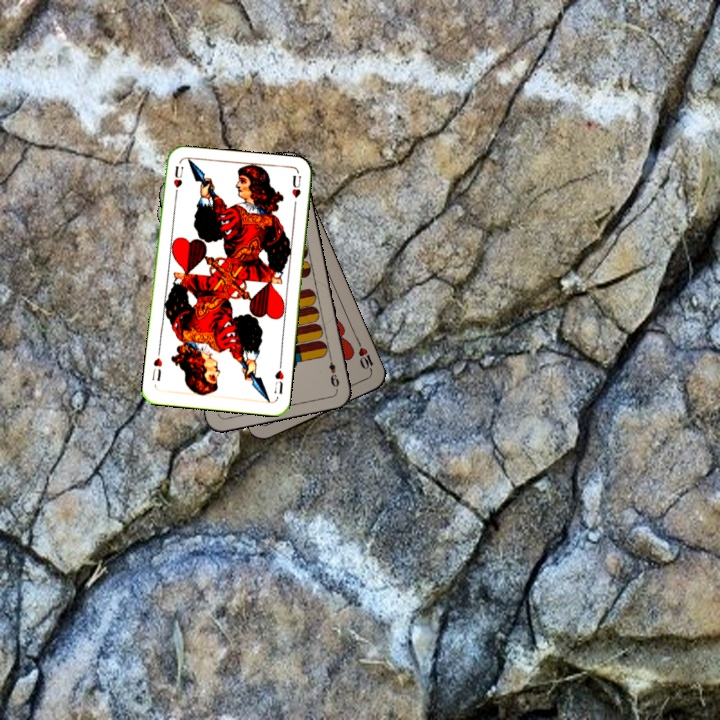E9: (325, 351, 342, 390)
H10: (353, 337, 376, 376)
HU: (169, 162, 186, 200), (270, 359, 286, 396)
